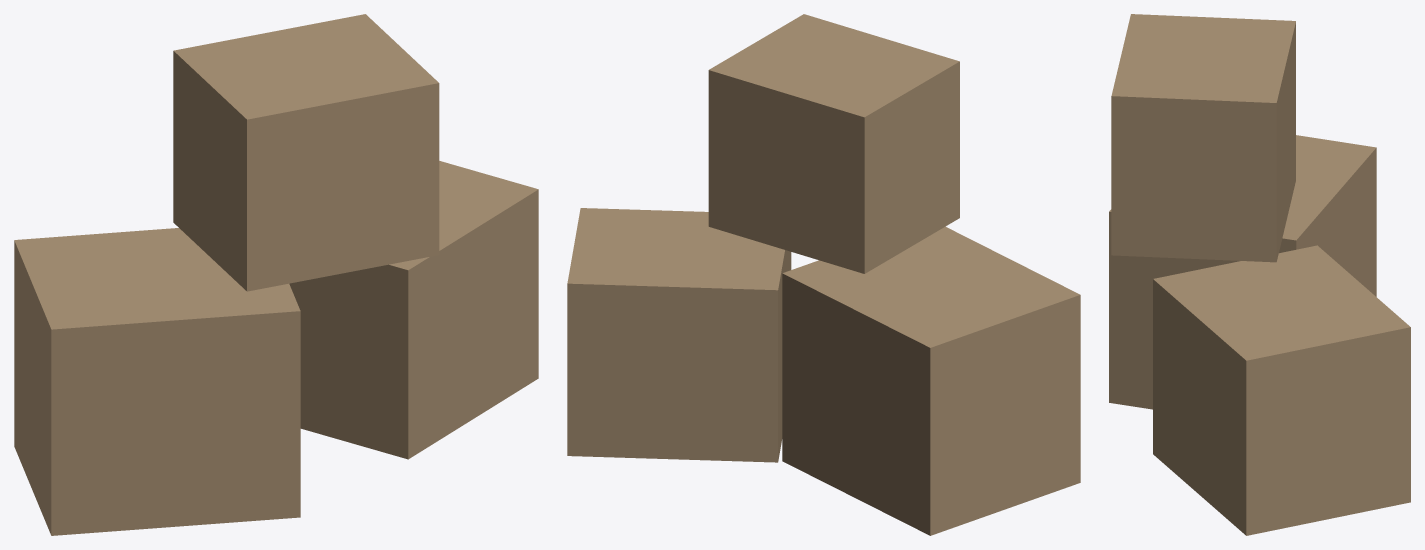
The model's file is prop_danball.glb.
3 renders of one model, left to right at view 1: azimuth 30°, elevation 25°; view 2: azimuth 150°, elevation 25°; view 3: azimuth 270°, elevation 25°, orthographic. The views are drawn at different scales.
Visible parts, largest first — view 1: danball; view 2: danball; view 3: danball.
Boxes of the visible parts, bbox=[...] form: danball: bbox=[14, 14, 538, 535]; danball: bbox=[567, 14, 1080, 535]; danball: bbox=[1109, 14, 1410, 535].
Bounding box in the file's own units: 1.42 × 1.04 × 0.7725.
